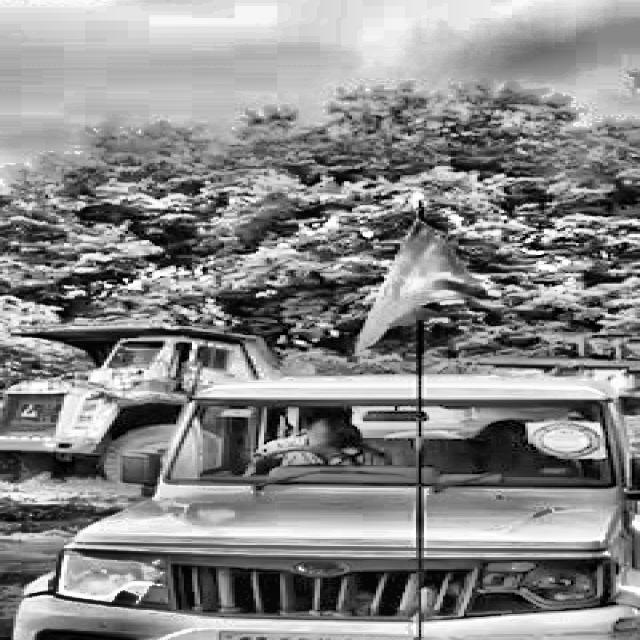light_vehicle: (0, 367, 640, 640)
